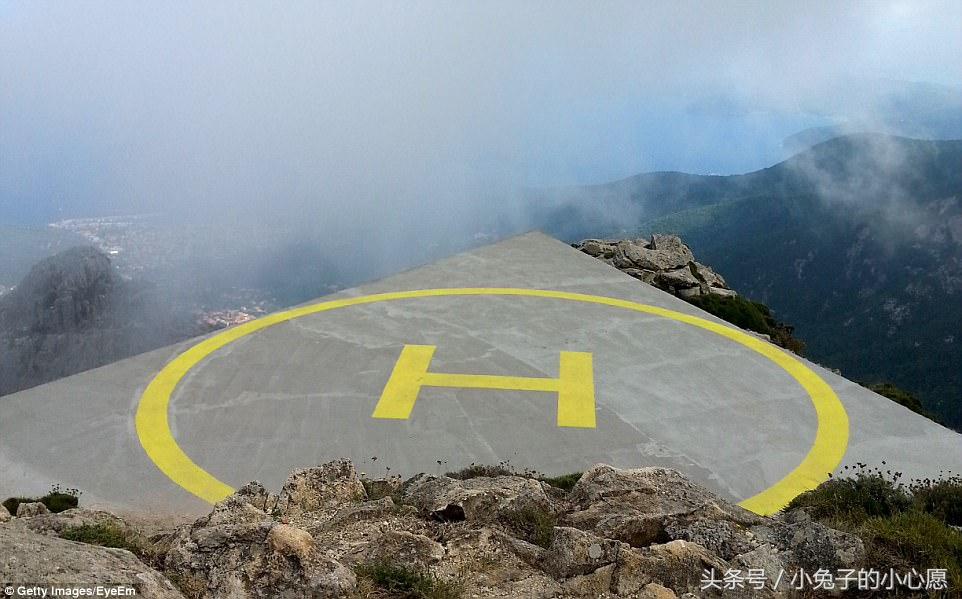Apron: (134, 286, 852, 540)
